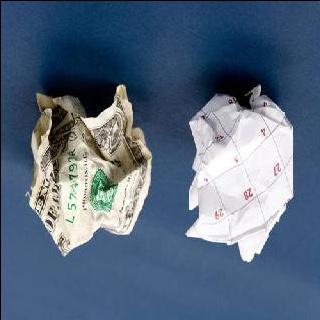8/可回收垃圾/纸: (24, 84, 152, 256), (184, 84, 295, 263)
